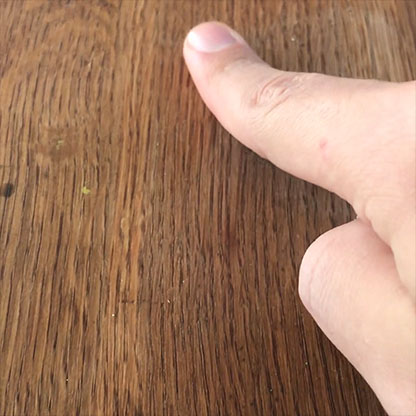fingertip: (167, 5, 259, 76)
